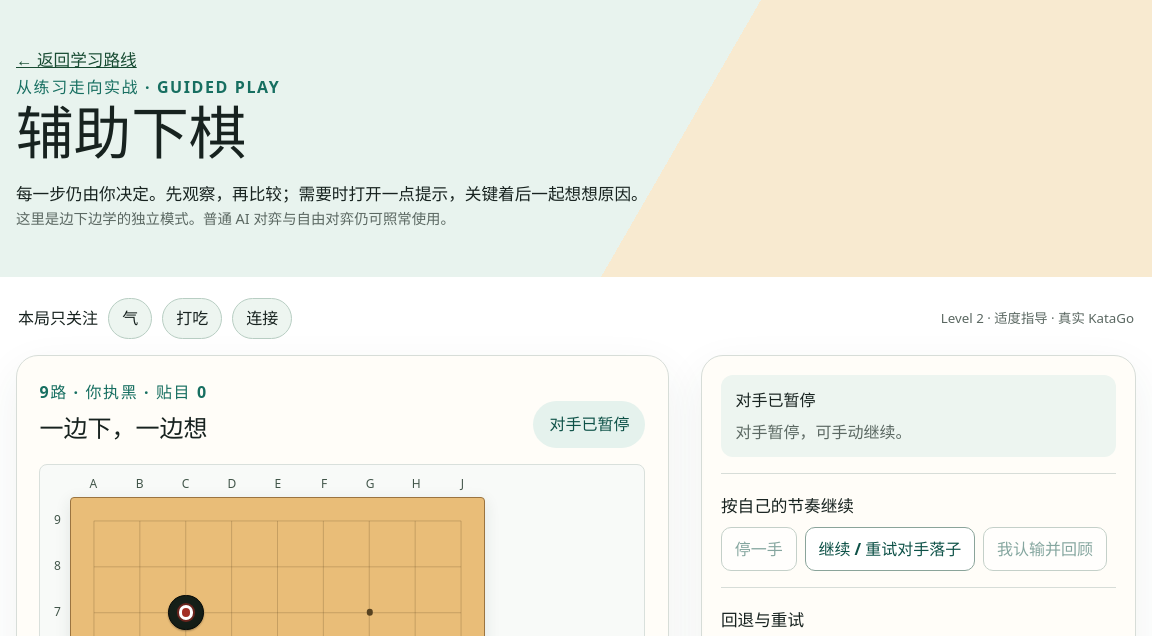
Test: real component and controller state transitions › failed remote reply leaves the game and selected opponent intact, no automatic fallback or retry
The width and height of the screenshot is (1152, 636).
Click the button "继续 / 重试对手落子": [890, 549] box [805, 527, 975, 571]
Wait 10200 ms
(page scrolled)
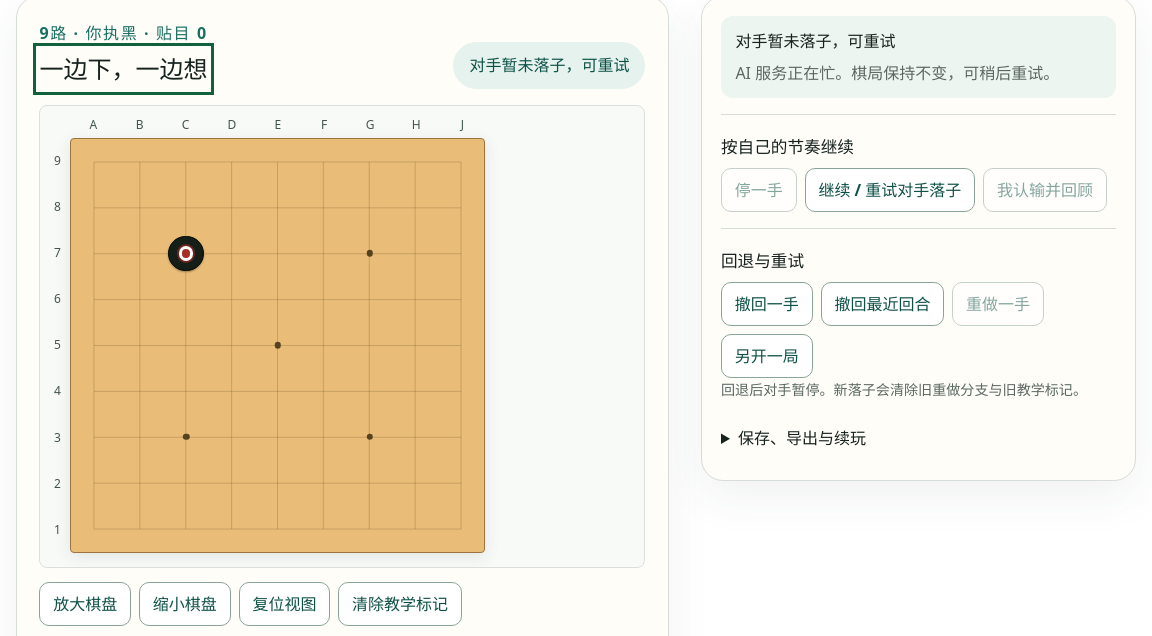
Result: the text "AI 服务正在忙" is shown at [735, 62, 1059, 84]
Result: the text "对手暂未落子，可重试" is shown at [453, 42, 645, 89]
